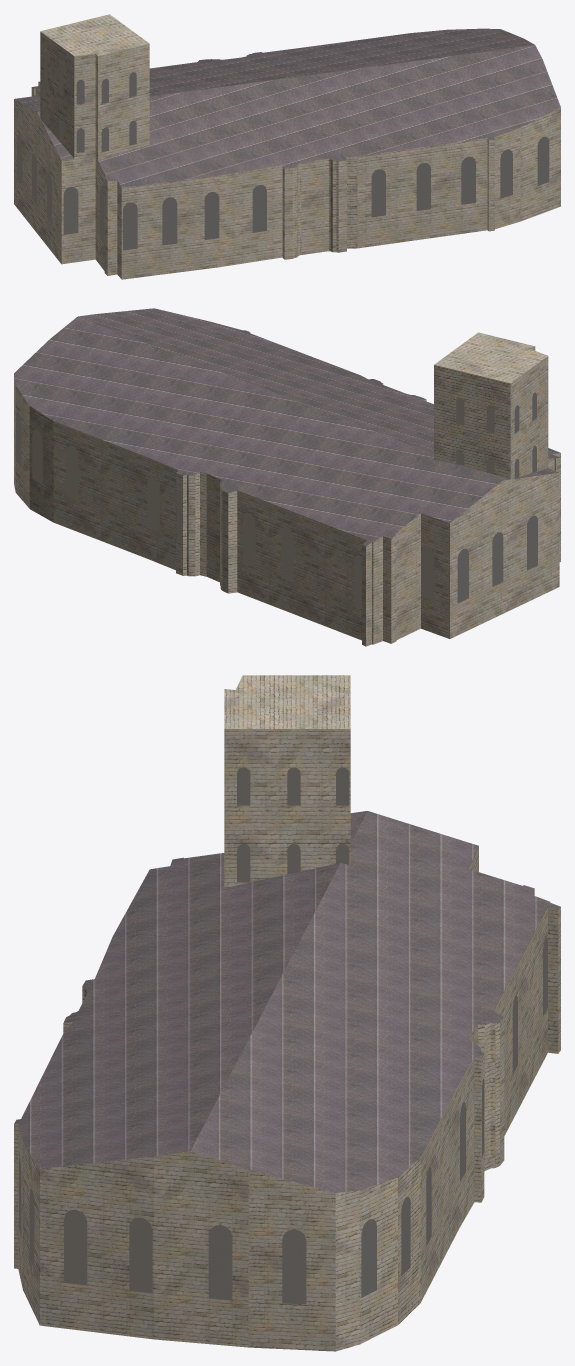
File: eglise-saint-germain-l-auxerrois.glb
3 views of the same model, one above another, from view 1: azimuth 30°, elevation 25°; view 2: azimuth 150°, elevation 25°; view 3: azimuth 270°, elevation 25° (orthographic). The views are drawn at different scales.
Visible parts, largest first — view 1: stone, roof, window; view 2: stone, roof, window; view 3: roof, stone, window.
Part boxes in pixels (x1,y1,x2,y2): stone: [14, 14, 560, 279]; roof: [14, 28, 560, 187]; window: [17, 59, 549, 250]; stone: [14, 332, 560, 646]; roof: [14, 308, 560, 546]; window: [16, 392, 537, 608]; roof: [14, 811, 560, 1192]; stone: [14, 675, 560, 1351]; window: [19, 767, 547, 1304].
Size of the model in its own units: 80.71 by 34 by 51.84.
Materials: 4 (4 with a texture image).
